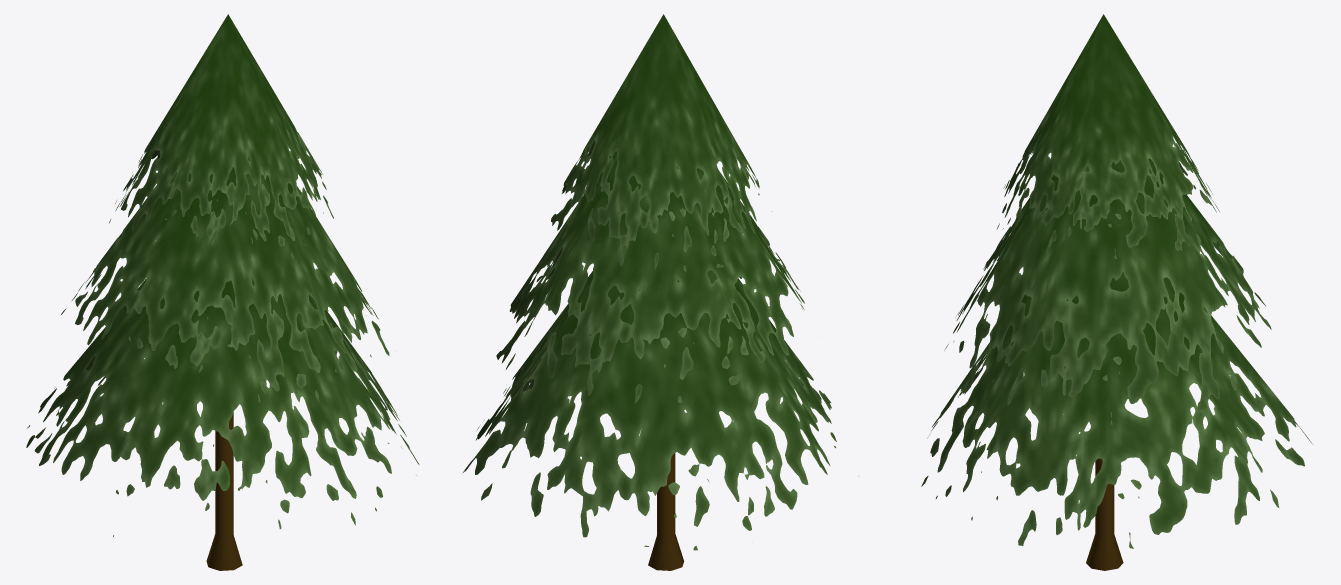
3 renders of one model, left to right at view 1: azimuth 30°, elevation 25°; view 2: azimuth 150°, elevation 25°; view 3: azimuth 270°, elevation 25°, orthographic.
Parts seen in each view (by area): view 1: obj4; view 2: obj4; view 3: obj4.
Boxes of the visible parts, bbox=[...] form: obj4: bbox=[26, 14, 419, 570]; obj4: bbox=[463, 14, 858, 570]; obj4: bbox=[921, 14, 1312, 570].
Bounding box in the file's own units: 20.33 × 28.76 × 20.31.
Materials: 1 (1 with a texture image).
